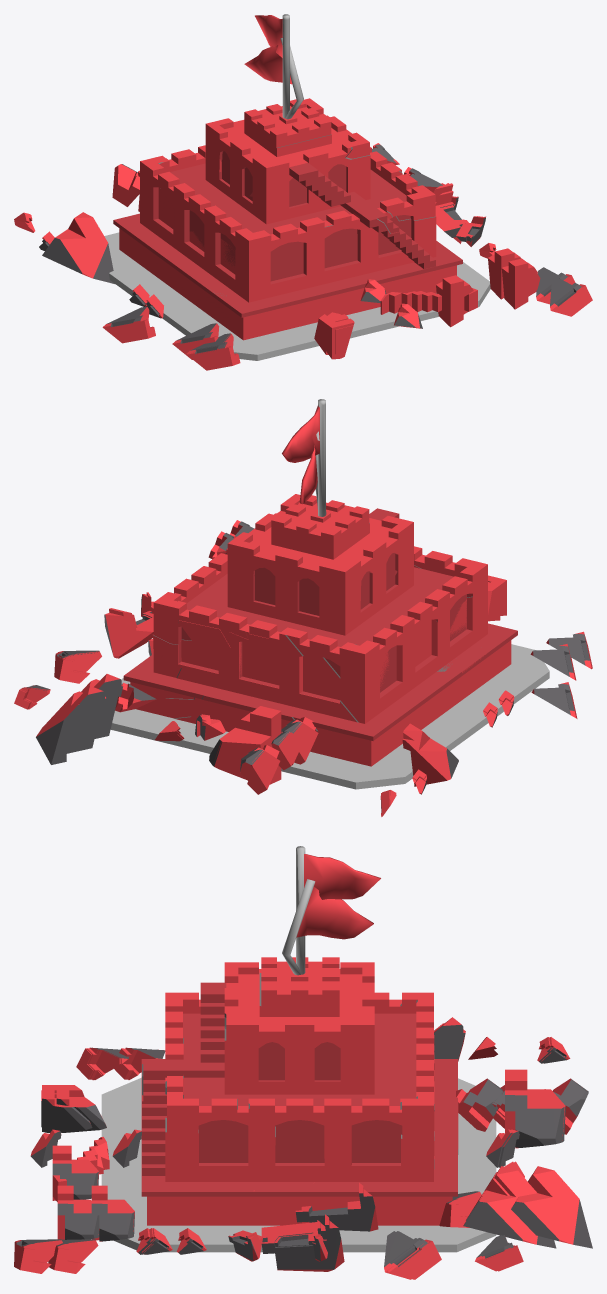
Rendered from destroyedcastlelevel1red.fbx.
3 renders of one model, top to bottom at view 1: azimuth 30°, elevation 25°; view 2: azimuth 150°, elevation 25°; view 3: azimuth 270°, elevation 25°, orthographic. The views are drawn at different scales.
Parts seen in each view (by area): view 1: castlelevel1red25destyoed, castlelevel1red, castlelevel1red50destroyed, redbasecastelevel175destoreyed, castlelevel1red75destroyed, castlelevel1blue.001_cell.001, castlelevel1reddestroy75.013, castlelevel1blue.001_cell.005, castlelevel1reddestroy75.027, castlelevel1red25destroy.008, redbasecastelevel125destoreyed, castlelevel1reddestroy.016 (+10 smaller); view 2: castlelevel1red, castlelevel1red75destroyed, castlelevel1red25destyoed, redbasecastelevel175destoreyed, castlelevel1red50destroyed, redbasecastelevel125destoreyed, castlelevel1blue.001_cell.010, castlelevel1blue.001_cell.056, castlelevel1blue.001_cell.001, castlelevel1reddestroy75.006, castlelevel1reddestroy75.007, castlelevel1reddestroy75.004 (+7 smaller); view 3: castlelevel1red, castlelevel1red25destyoed, redbasecastelevel175destoreyed, castlelevel1red75destroyed, redbasecastelevel125destoreyed, castlelevel1blue.001_cell.010, castlelevel1blue.001_cell.056, castlelevel1reddestroy75.004, castlelevel1reddestroy75.006, castlelevel1reddestroy75.013, castlelevel1blue.001_cell.015, castlelevel1blue.001_cell.032 (+20 smaller).
Boxes of the visible parts, x1=… form: castlelevel1red25destyoed: x1=114, y1=38, x2=462, y2=340; castlelevel1red: x1=113, y1=14, x2=461, y2=324; castlelevel1red50destroyed: x1=128, y1=135, x2=435, y2=331; redbasecastelevel175destoreyed: x1=105, y1=232, x2=490, y2=360; castlelevel1red75destroyed: x1=127, y1=149, x2=395, y2=300; castlelevel1blue.001_cell.001: x1=42, y1=212, x2=115, y2=284; castlelevel1reddestroy75.013: x1=501, y1=258, x2=540, y2=309; castlelevel1blue.001_cell.005: x1=380, y1=288, x2=477, y2=314; castlelevel1reddestroy75.027: x1=550, y1=277, x2=592, y2=316; castlelevel1red25destroy.008: x1=437, y1=278, x2=473, y2=327; redbasecastelevel125destoreyed: x1=104, y1=233, x2=489, y2=333; castlelevel1reddestroy.016: x1=187, y1=334, x2=240, y2=370; castlelevel1red: x1=123, y1=399, x2=516, y2=766; castlelevel1red75destroyed: x1=146, y1=565, x2=498, y2=731; castlelevel1red25destyoed: x1=132, y1=431, x2=517, y2=765; redbasecastelevel175destoreyed: x1=110, y1=651, x2=549, y2=789; castlelevel1red50destroyed: x1=202, y1=500, x2=499, y2=750; redbasecastelevel125destoreyed: x1=180, y1=644, x2=549, y2=782; castlelevel1blue.001_cell.010: x1=36, y1=686, x2=106, y2=764; castlelevel1blue.001_cell.056: x1=209, y1=706, x2=281, y2=784; castlelevel1blue.001_cell.001: x1=402, y1=723, x2=458, y2=786; castlelevel1reddestroy75.006: x1=104, y1=608, x2=153, y2=658; castlelevel1reddestroy75.007: x1=240, y1=745, x2=280, y2=794; castlelevel1reddestroy75.004: x1=81, y1=674, x2=123, y2=738; castlelevel1red: x1=143, y1=846, x2=457, y2=1203; castlelevel1red25destyoed: x1=141, y1=879, x2=456, y2=1225; redbasecastelevel175destoreyed: x1=101, y1=1077, x2=496, y2=1252; castlelevel1red75destroyed: x1=143, y1=1006, x2=458, y2=1190; redbasecastelevel125destoreyed: x1=101, y1=1080, x2=494, y2=1252; castlelevel1blue.001_cell.010: x1=511, y1=1166, x2=592, y2=1248; castlelevel1blue.001_cell.056: x1=505, y1=1069, x2=565, y2=1148; castlelevel1reddestroy75.004: x1=463, y1=1166, x2=556, y2=1248; castlelevel1reddestroy75.006: x1=261, y1=1214, x2=344, y2=1271; castlelevel1reddestroy75.013: x1=57, y1=1185, x2=99, y2=1239; castlelevel1blue.001_cell.015: x1=295, y1=1182, x2=378, y2=1231; castlelevel1blue.001_cell.032: x1=91, y1=1185, x2=134, y2=1241.
Size of the model in its own units: 618 by 387 by 621.
